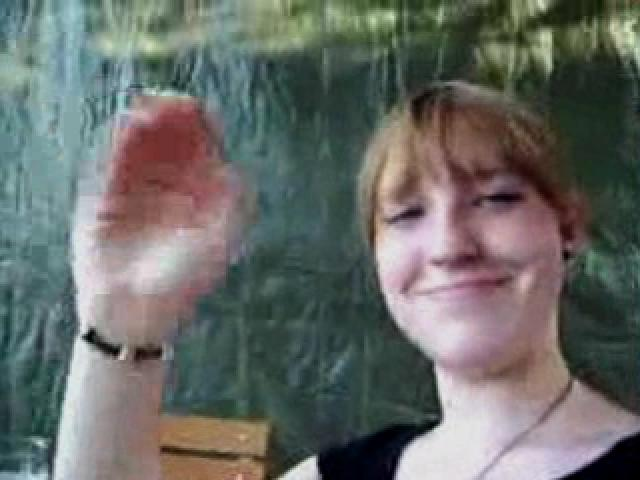T: (42, 81, 638, 474)
